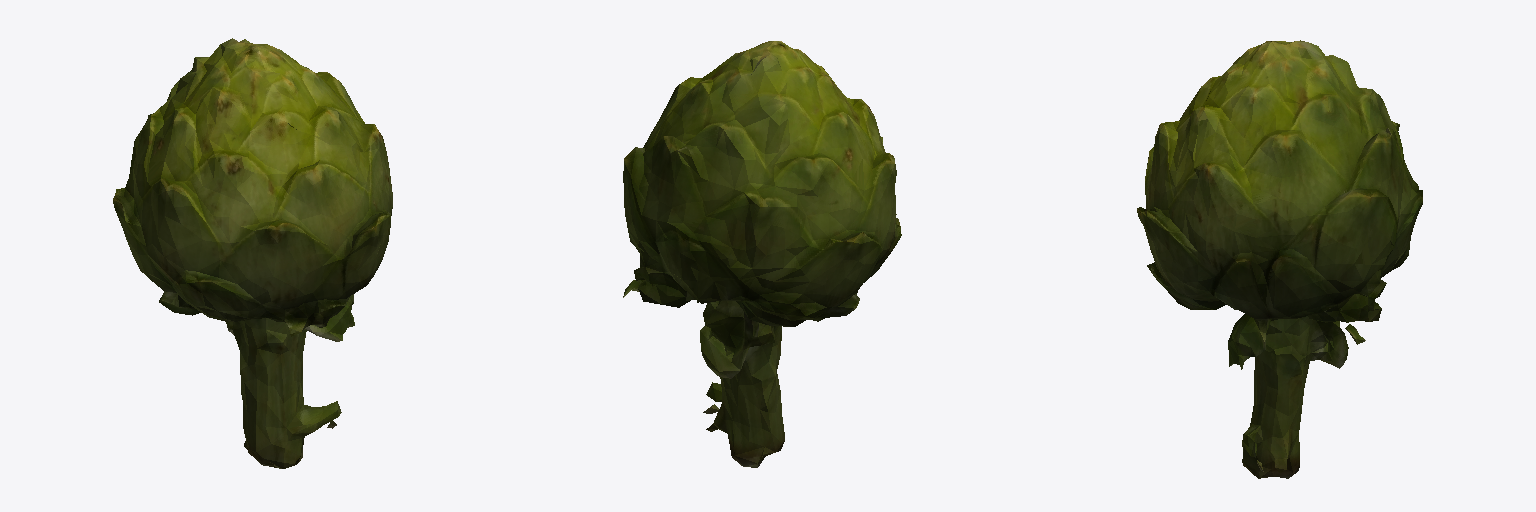
The picture shows the model from 3 angles: view 1: azimuth 30°, elevation 25°; view 2: azimuth 150°, elevation 25°; view 3: azimuth 270°, elevation 25°; orthographic projection.
Parts seen in each view (by area): view 1: artichoke; view 2: artichoke; view 3: artichoke.
Boxes of the visible parts, box(x1,y1,x2,y2) form: artichoke: box(113, 38, 392, 468); artichoke: box(623, 41, 901, 467); artichoke: box(1137, 40, 1422, 478).
Size of the model in its own units: 1.49 by 2.58 by 1.58.
1 materials, 1 textured.